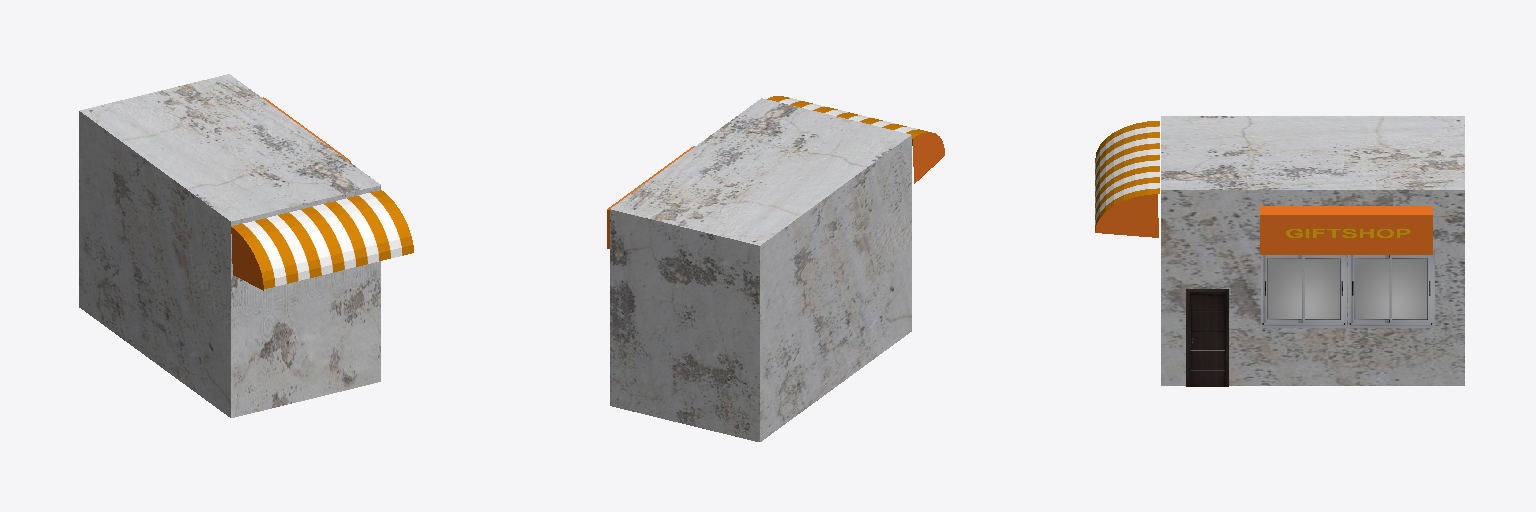
3 views of the same model, side by side, from view 1: azimuth 30°, elevation 25°; view 2: azimuth 150°, elevation 25°; view 3: azimuth 270°, elevation 25° (orthographic).
Visible parts, largest first — view 1: Cube_Cube.001, Cylinder; view 2: Cube_Cube.001, Cylinder; view 3: Cube_Cube.001, Cube.001_Cube.002, Cylinder, Plane.001, Plane, Plane.002.
Boxes of the visible parts, x1,y1,x2,y2 form: Cube_Cube.001: [79, 74, 380, 417]; Cylinder: [231, 190, 413, 290]; Cube_Cube.001: [610, 98, 911, 441]; Cylinder: [767, 96, 944, 183]; Cube_Cube.001: [1161, 116, 1464, 385]; Cube.001_Cube.002: [1260, 206, 1432, 254]; Cylinder: [1095, 121, 1159, 237]; Plane.001: [1348, 250, 1434, 327]; Plane: [1261, 255, 1346, 327]; Plane.002: [1186, 289, 1228, 386].
Size of the model in its own units: 9.01 by 10 by 17.04.
7 materials, 6 textured.